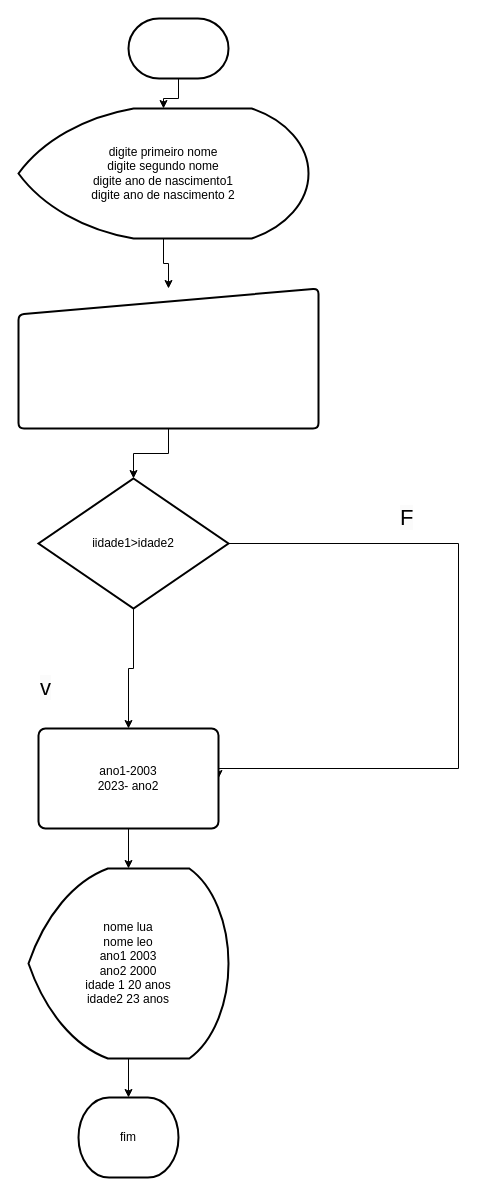
Some shapes in this 484 by 1195 pixel diagram are drawn without their labels. The shapes that lost their labels are listed below. From the top down, each one's centre as x and y in pixels, then its label:
At (178,48): "inicio".
At (168,358): "nome1 nome2 ano1 ano 2".
